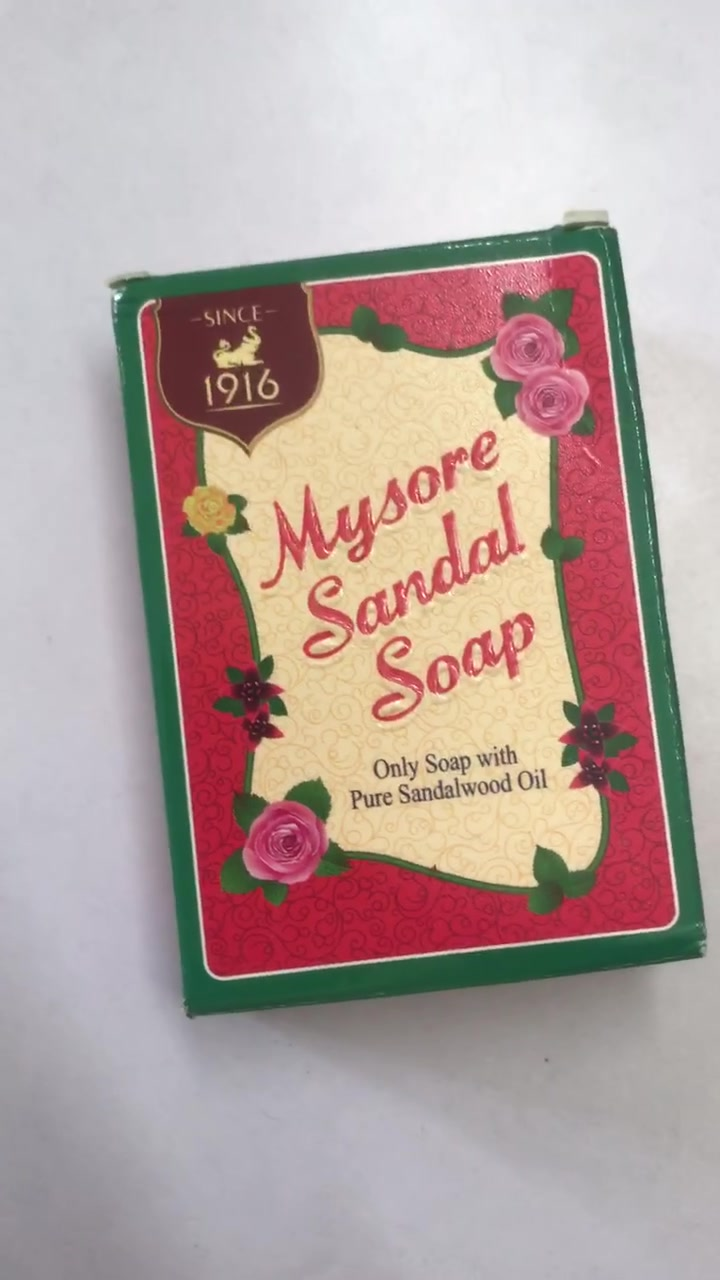mysore sandal soap: (119, 238, 705, 1010)
